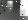person: (21, 1, 28, 17), (8, 3, 14, 11)
